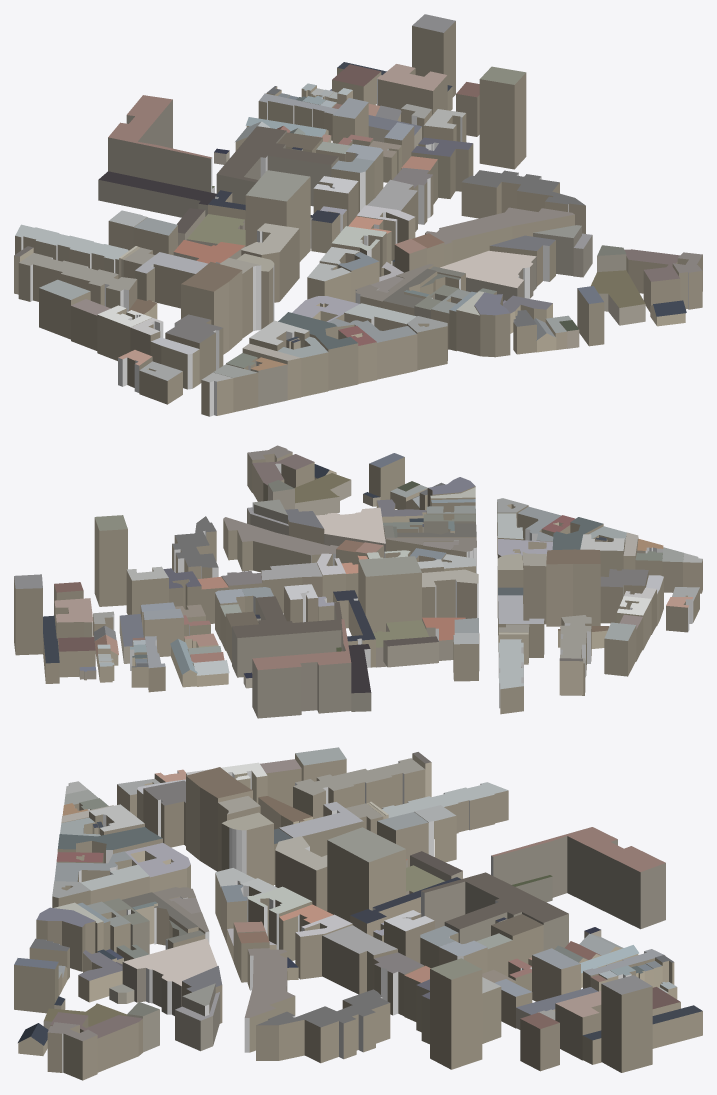
3 views of the same model, one above another, from view 1: azimuth 30°, elevation 25°; view 2: azimuth 150°, elevation 25°; view 3: azimuth 270°, elevation 25° (orthographic). The views are drawn at different scales.
Parts seen in each view (by area): view 1: tuile; view 2: tuile; view 3: tuile.
Part boxes in pixels (box(x1,y1,x2,y2)): tuile: box(14, 14, 702, 416); tuile: box(14, 445, 702, 718); tuile: box(14, 747, 702, 1080).
Bounding box in the file's own units: 265 × 43.54 × 271.
